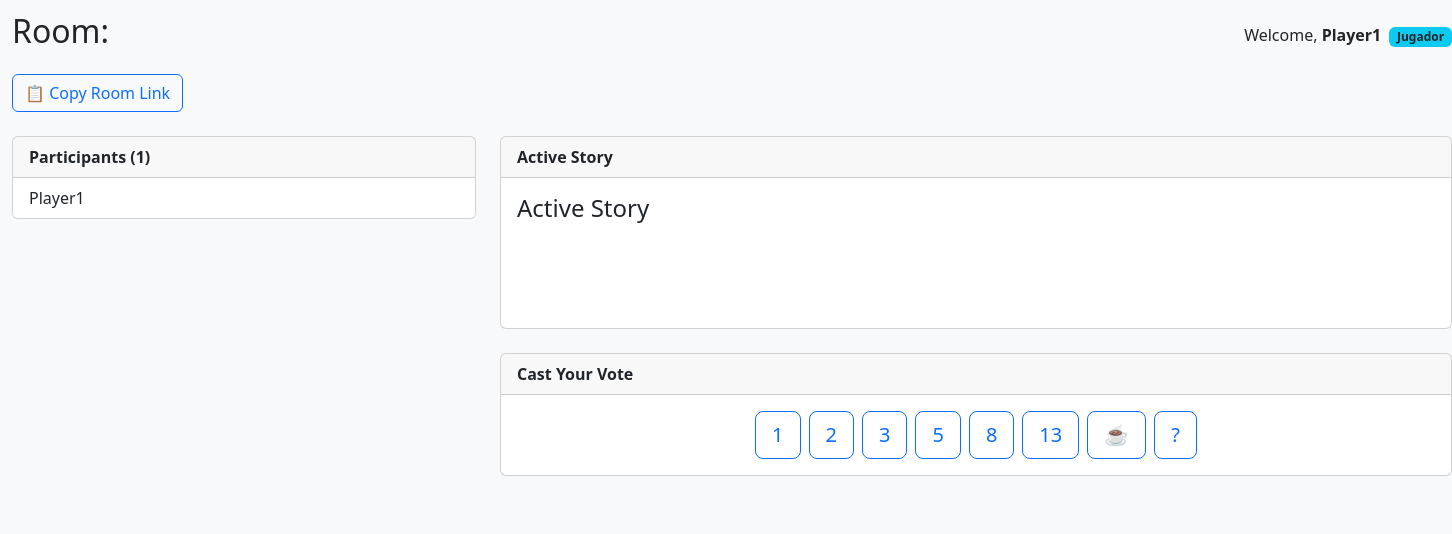
Test: RoomPage Component › allows a player to cast a vote
The width and height of the screenshot is (1452, 534).
# Cast a vote
Click the button "5".
click(938, 435)  # box [915,411,961,459]
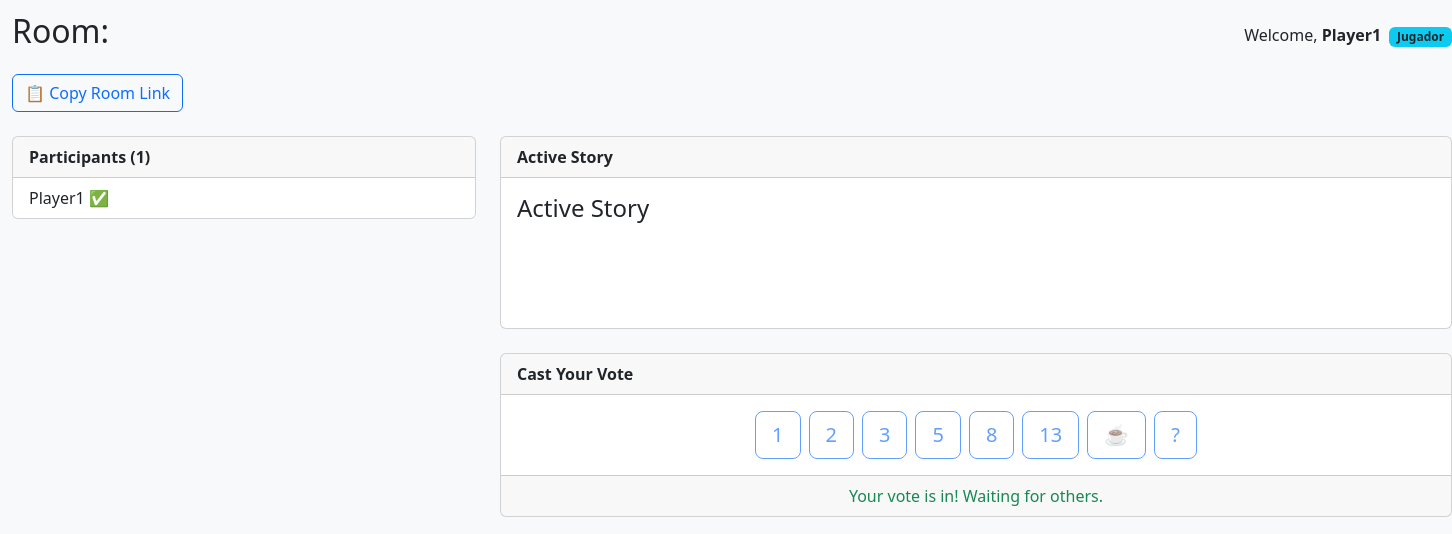
Result: the text "Your vote is in! Waiting for others." is shown at [501,475,1451,516]
Result: the button "5" is disabled at [915,411,961,459]
